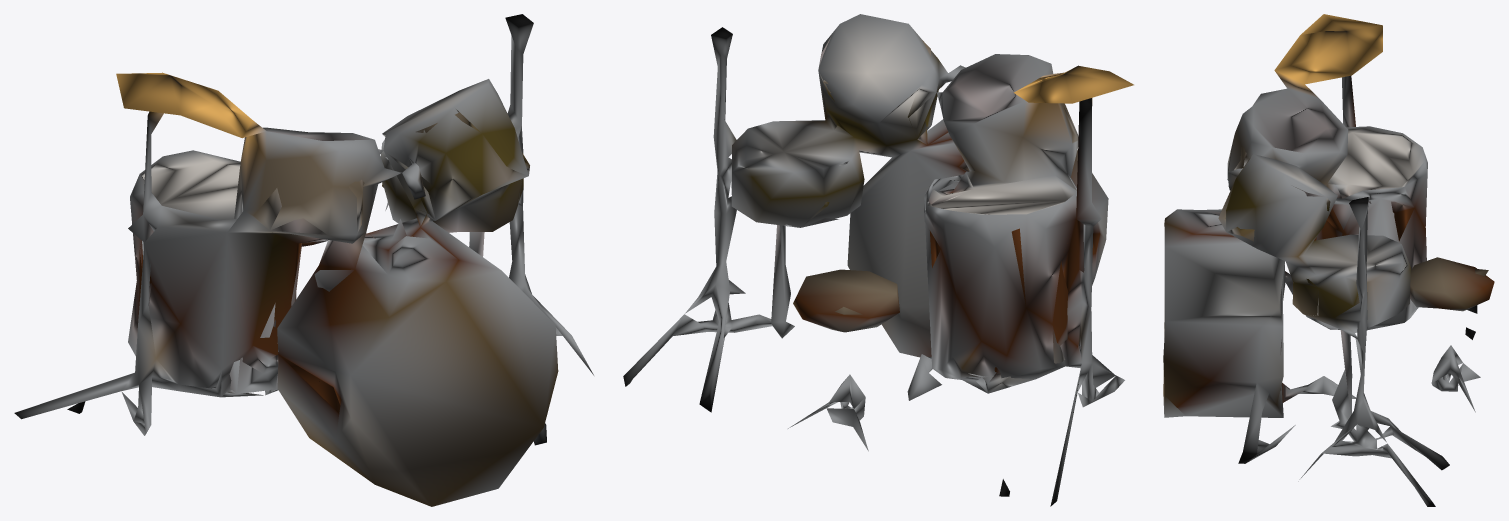
File: gen3d-drummer-lod1.glb
3 renders of one model, left to right at view 1: azimuth 30°, elevation 25°; view 2: azimuth 150°, elevation 25°; view 3: azimuth 270°, elevation 25°, orthographic. The views are drawn at different scales.
Parts seen in each view (by area): view 1: part_0; view 2: part_0; view 3: part_0.
Part boxes in pixels (<box>): part_0: <box>14,14,593,506</box>; part_0: <box>623,14,1133,506</box>; part_0: <box>1163,14,1494,506</box>.
Size of the model in its own units: 1.3 by 0.9973 by 0.9491.
